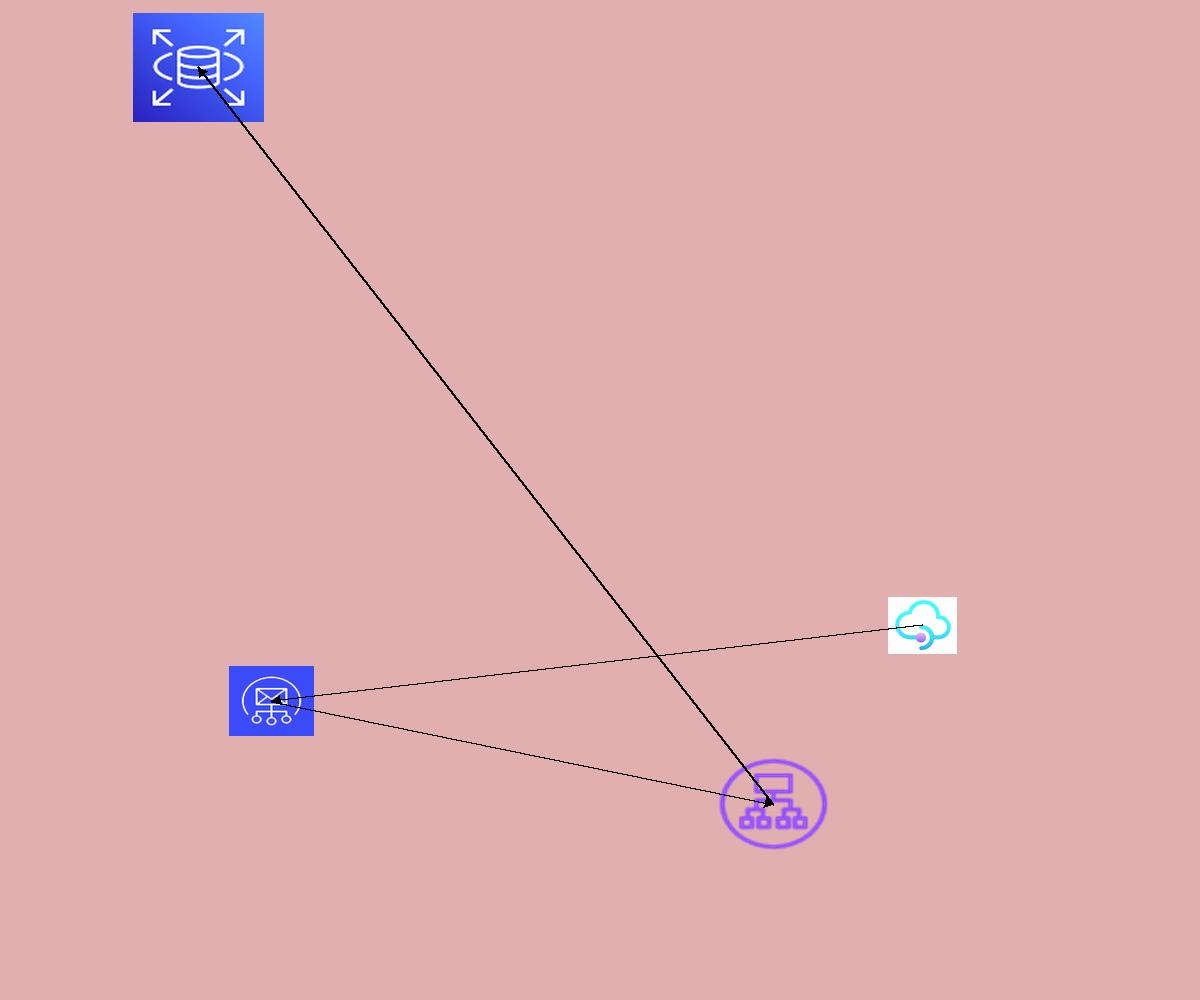AWS-RDS: (133, 13, 264, 122)
AWS-Res_Elastic-Load-Balancing_Application-Load-Balancer: (715, 755, 832, 853)
AWS-Simple-Email-Service: (229, 666, 314, 736)
Azure_api_gateway: (888, 597, 957, 654)
